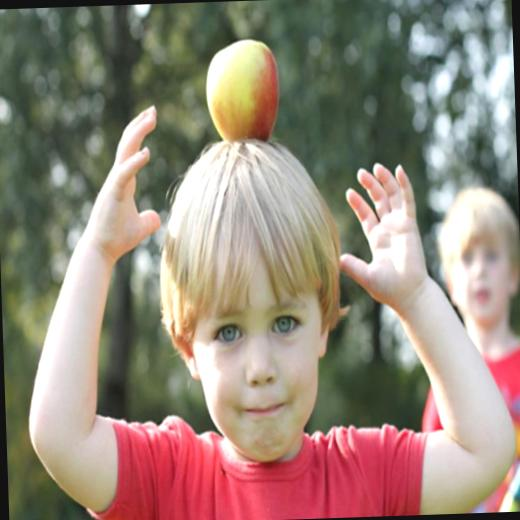Apple: (202, 36, 285, 142)
